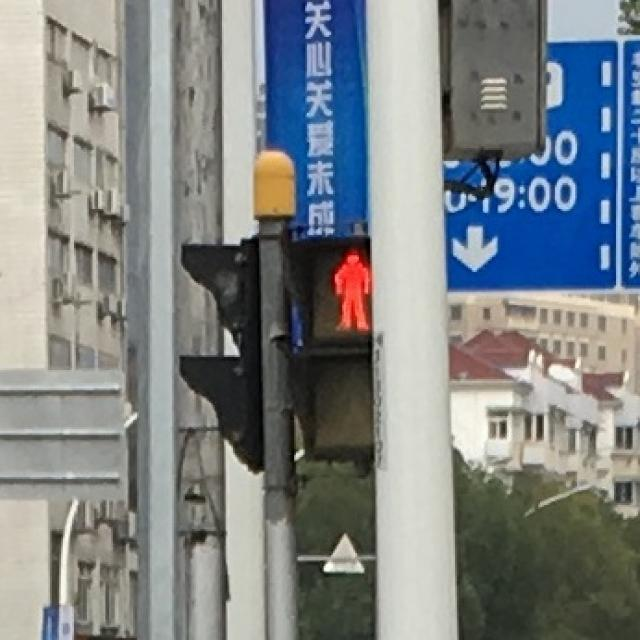red-crossing: (302, 248, 372, 332)
